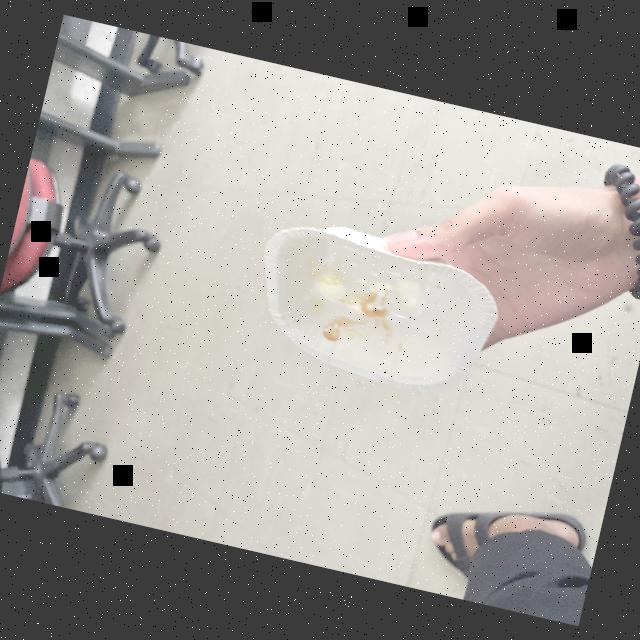cardboard_bowl: (236, 206, 516, 412)
